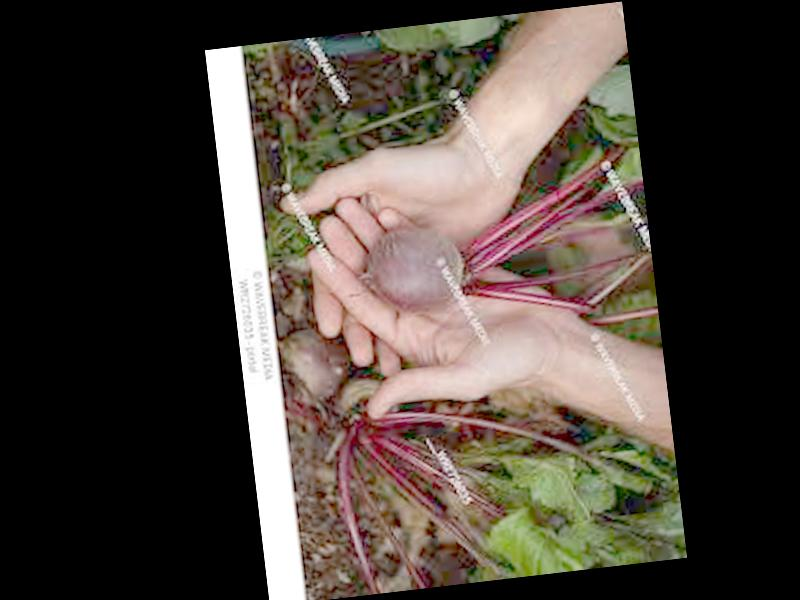Beet: (346, 140, 648, 340)
